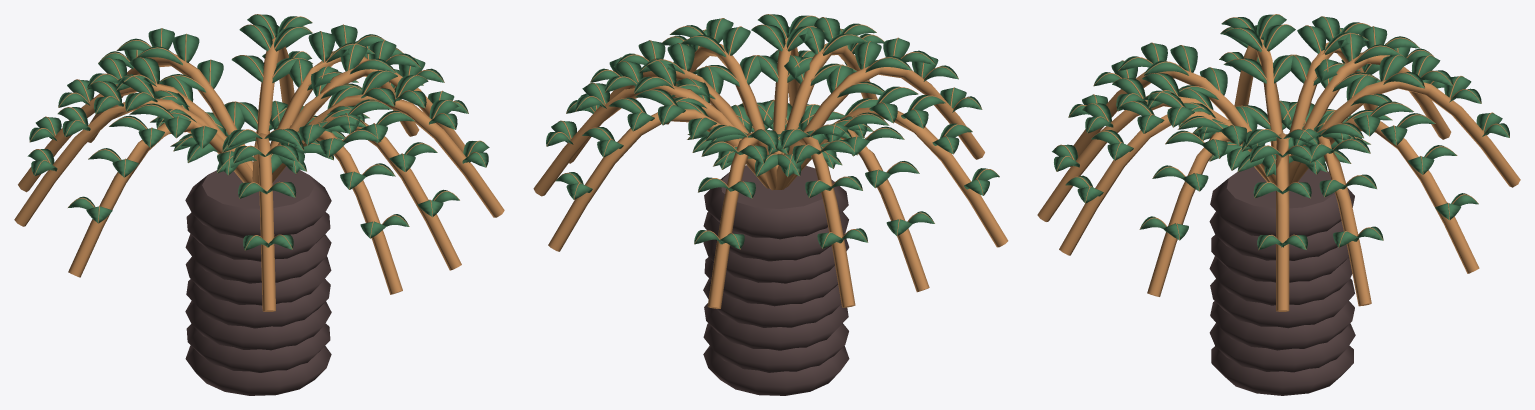
The model's file is vespera_cycad.glb.
The picture shows the model from 3 angles, left to right: view 1: azimuth 30°, elevation 25°; view 2: azimuth 150°, elevation 25°; view 3: azimuth 270°, elevation 25°; orthographic projection.
Visible parts, largest first — view 1: vespera_cycad; view 2: vespera_cycad; view 3: vespera_cycad.
Part boxes in pixels (x1=…): vespera_cycad: x1=14, y1=14, x2=504, y2=395; vespera_cycad: x1=533, y1=14, x2=1008, y2=395; vespera_cycad: x1=1037, y1=14, x2=1520, y2=395.
Size of the model in its own units: 9.32 by 6.17 by 9.24.
